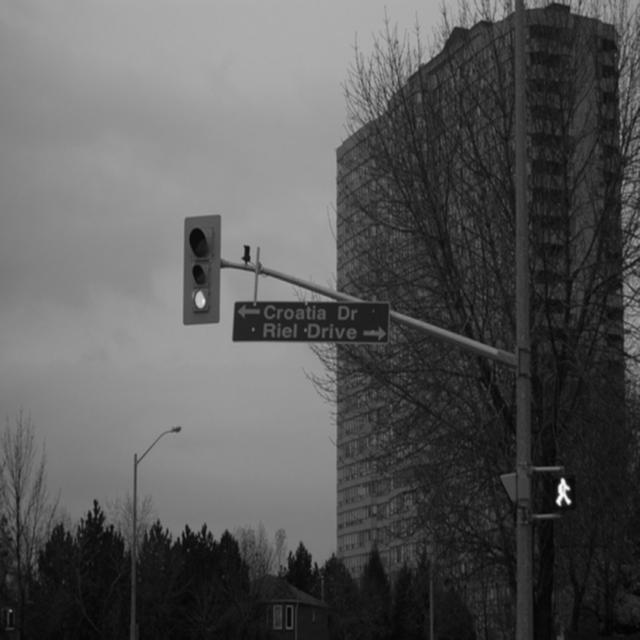pole: (508, 1, 540, 637)
